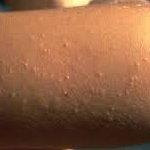Goosebumps: (0, 1, 149, 132)
